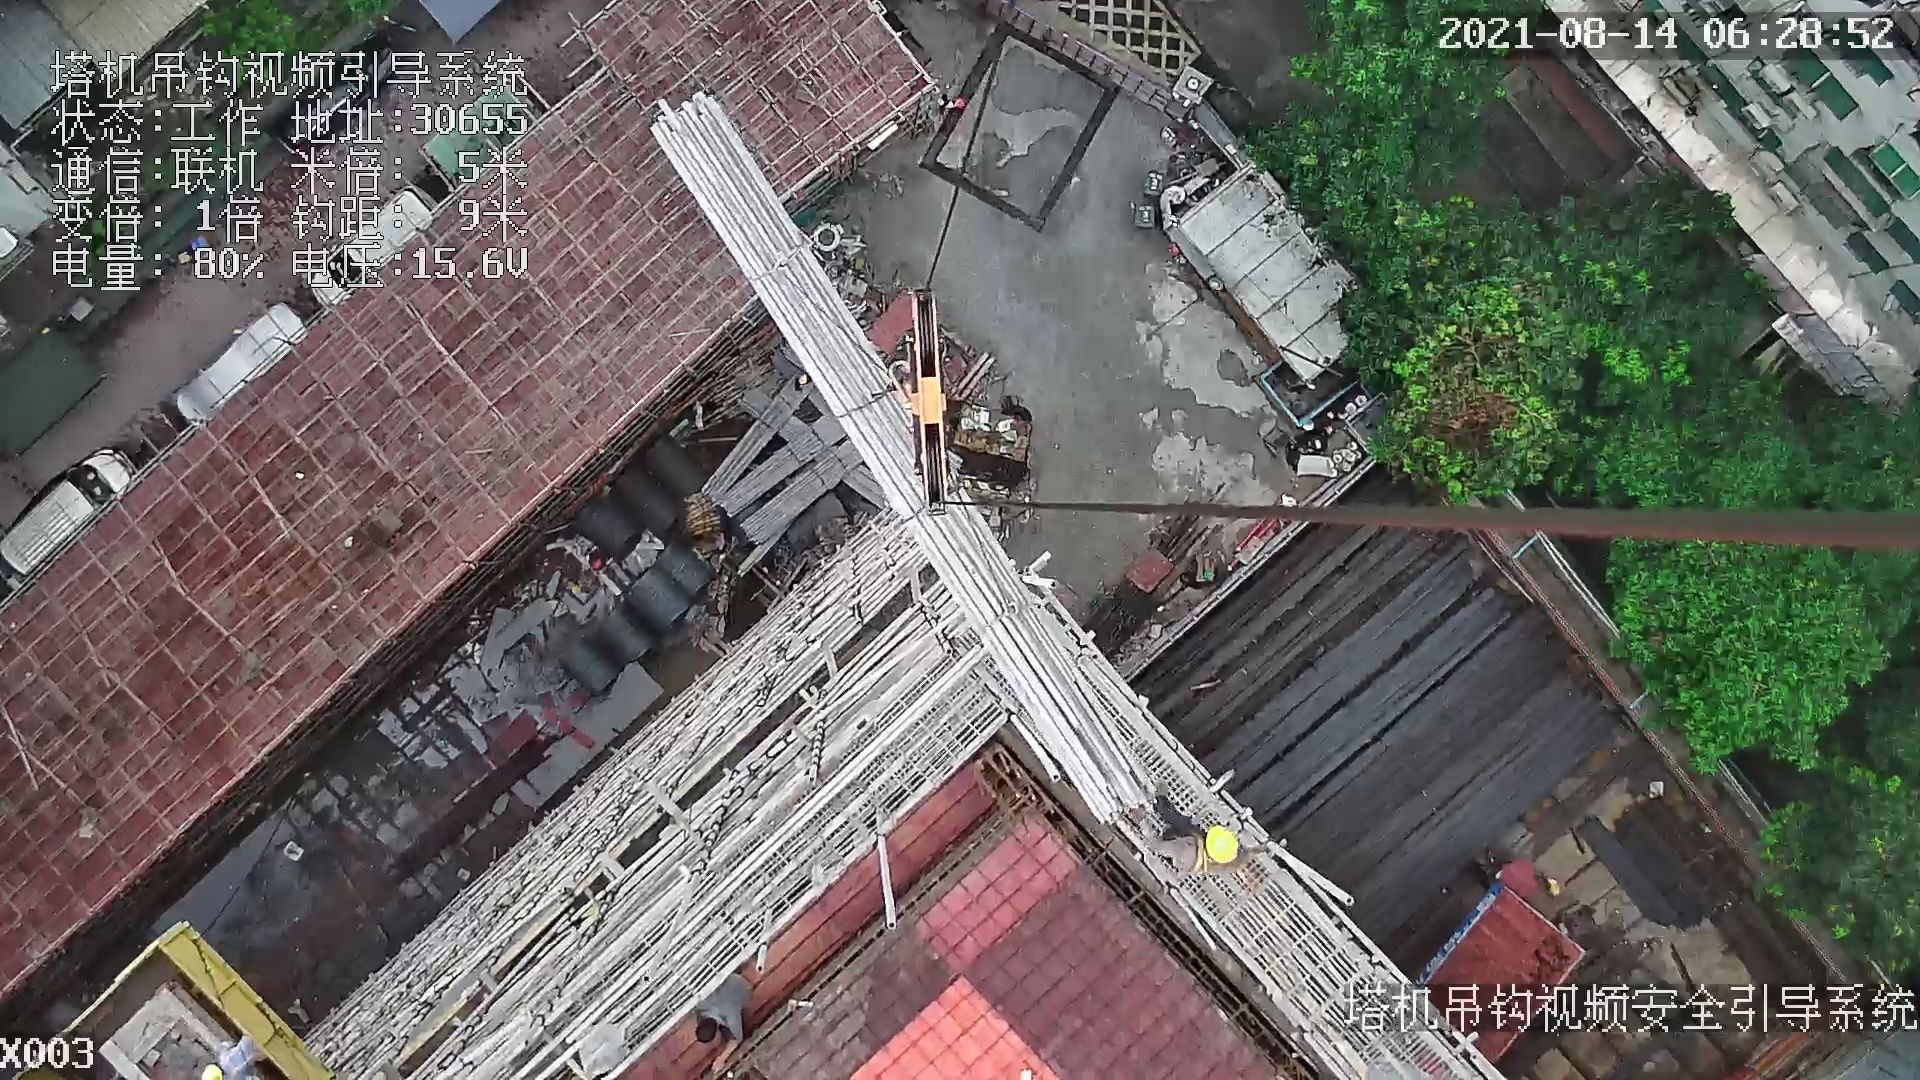helmet: (1205, 833, 1244, 869)
hook: (907, 283, 951, 520)
person: (1132, 803, 1256, 880)
rebar: (1262, 495, 1615, 880)
